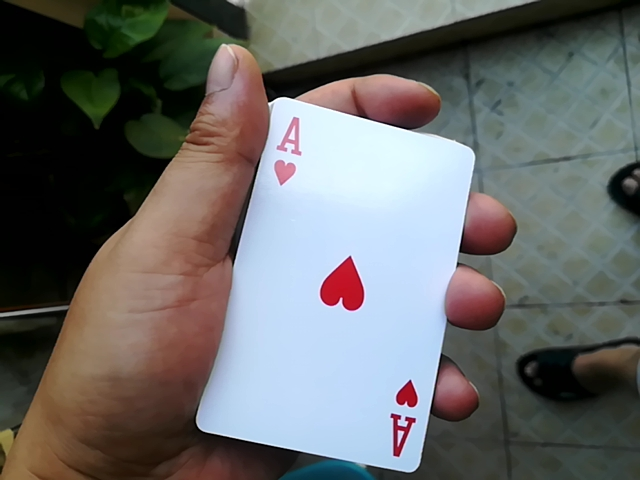hx a: (199, 91, 456, 466)
